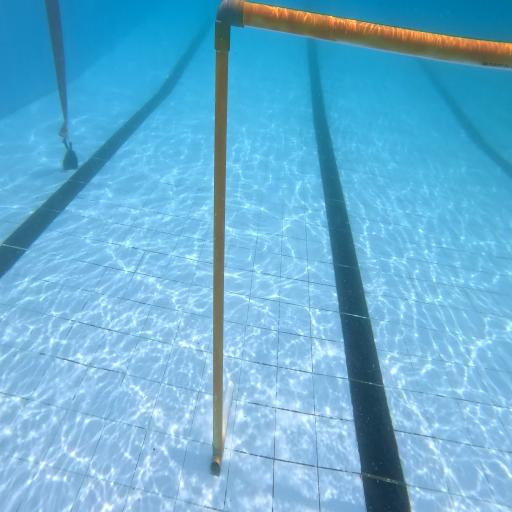gate: (209, 0, 512, 475)
